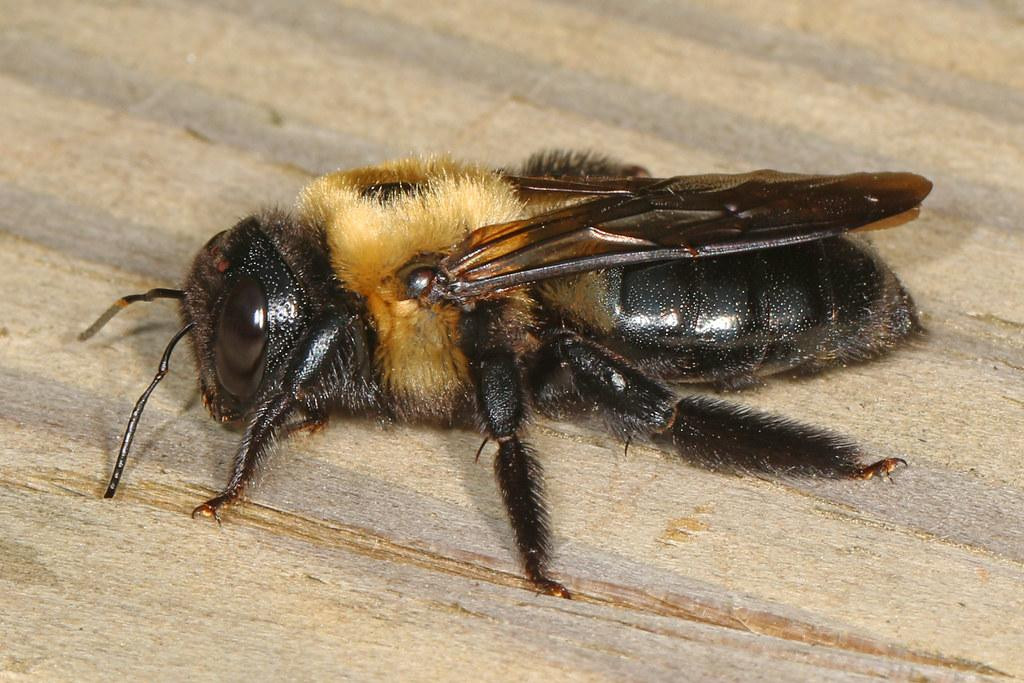Xylocopa: (57, 104, 985, 599)
